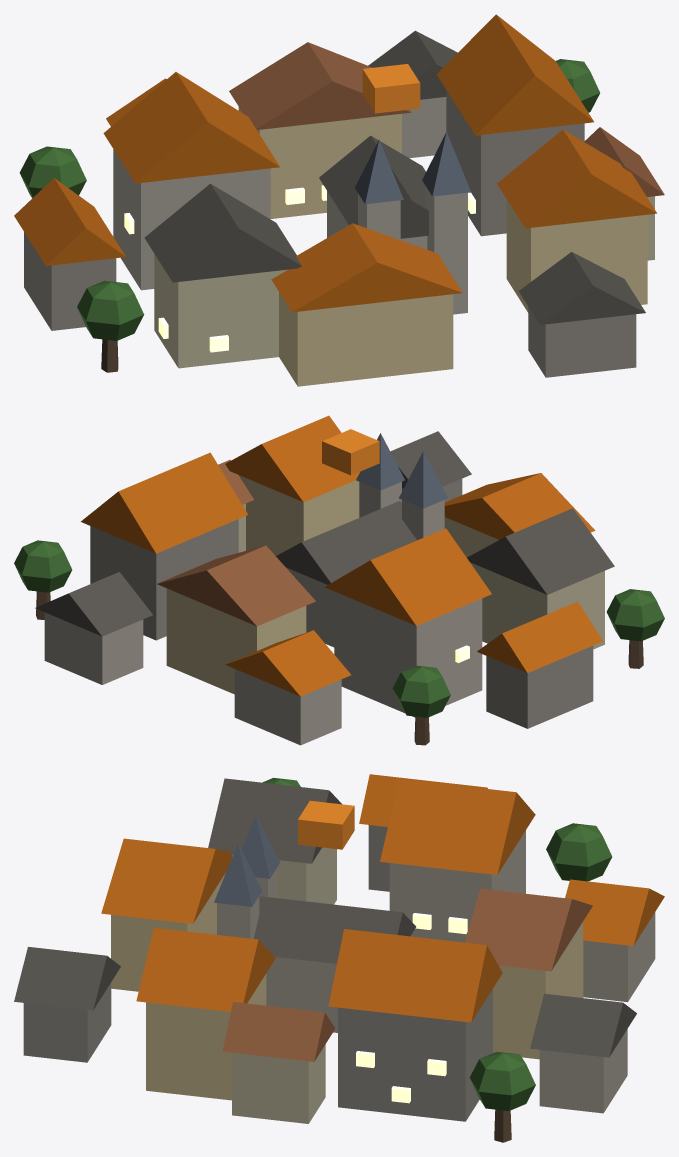
Rendered from overworld-settlement-european-town.glb.
3 views of the same model, one above another, from view 1: azimuth 30°, elevation 25°; view 2: azimuth 150°, elevation 25°; view 3: azimuth 270°, elevation 25° (orthographic). The views are drawn at different scales.
Parts seen in each view (by area): view 1: settlement; view 2: settlement; view 3: settlement.
Part boxes in pixels (x1,y1,x2,y2): settlement: (14,14,664,386); settlement: (14,415,664,745); settlement: (14,774,664,1142).
Size of the model in its own units: 0.5406 by 0.166 by 0.4926.
